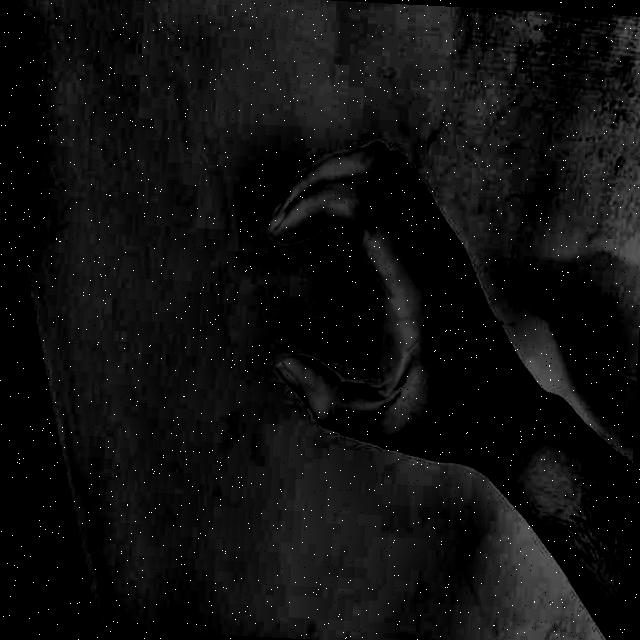A: (222, 108, 514, 513)
